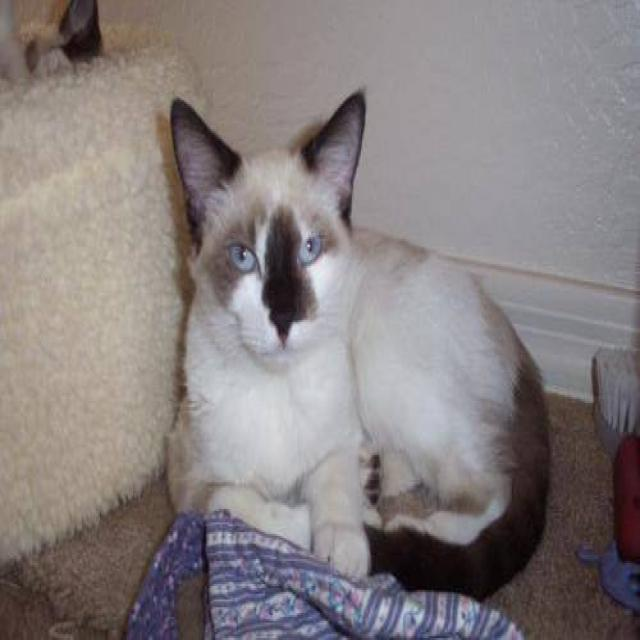cat: (164, 87, 552, 601)
